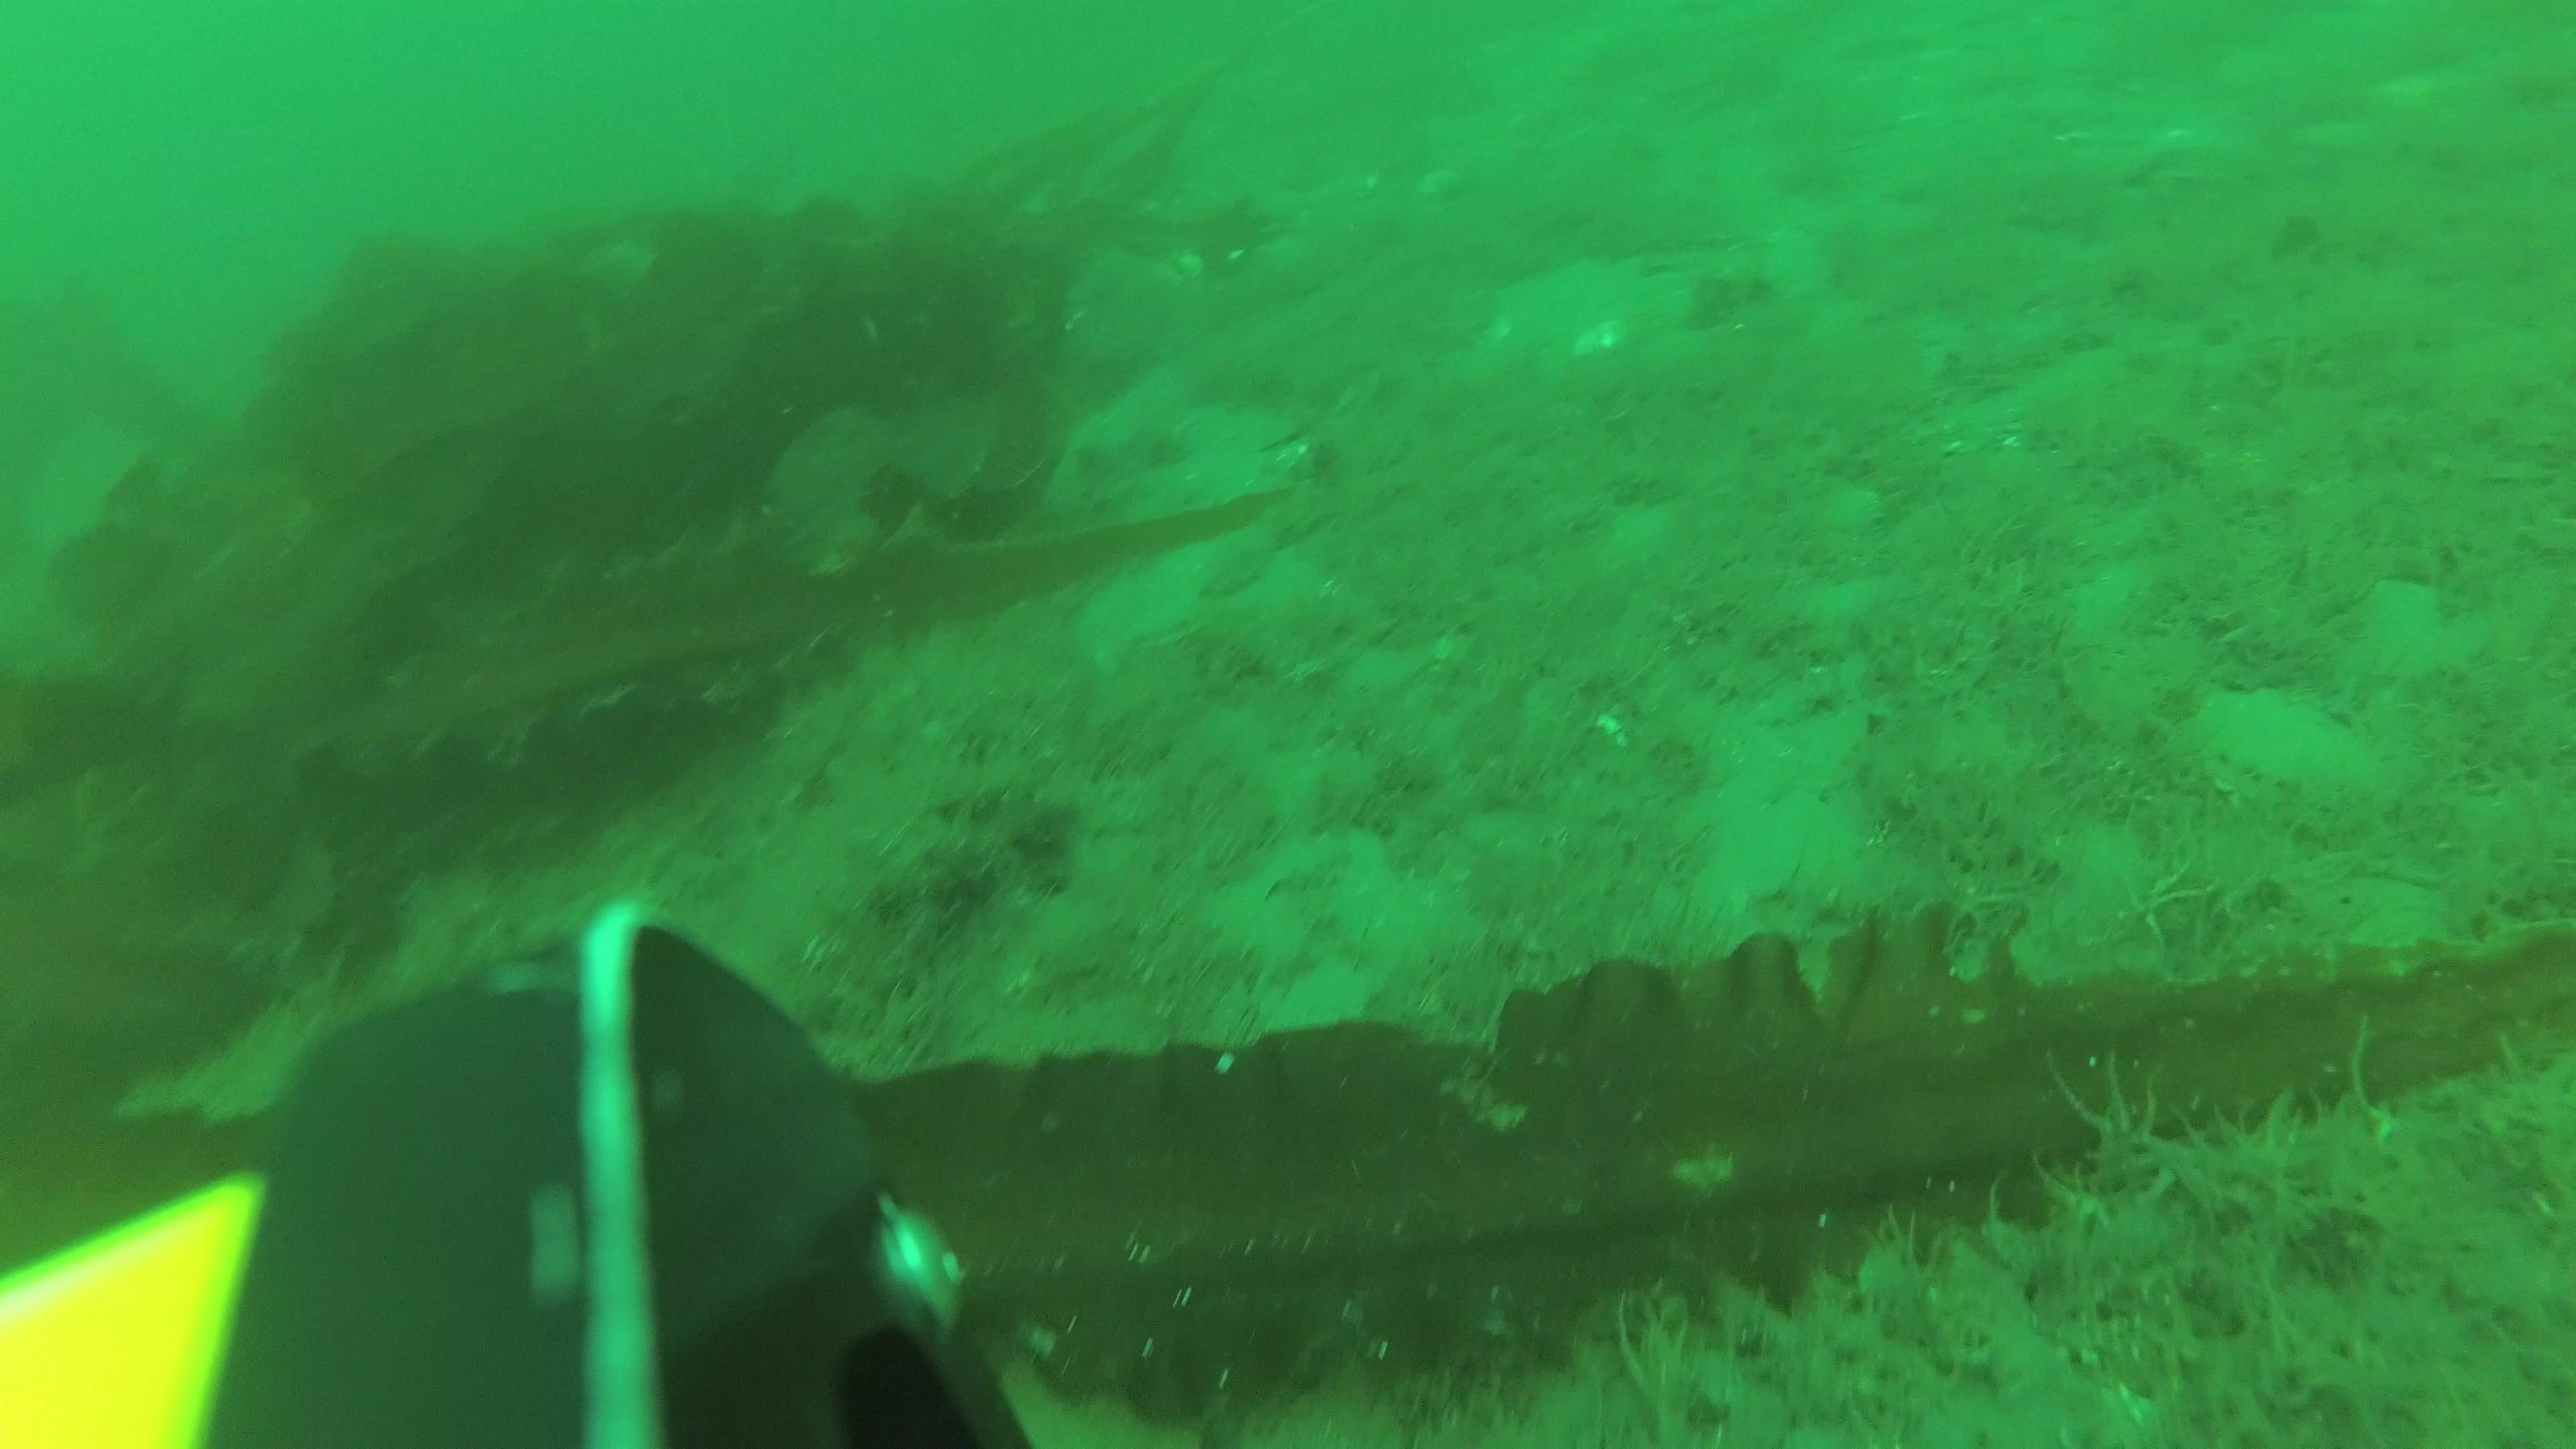scallop: (2185, 688, 2387, 832), (2318, 577, 2491, 708)
